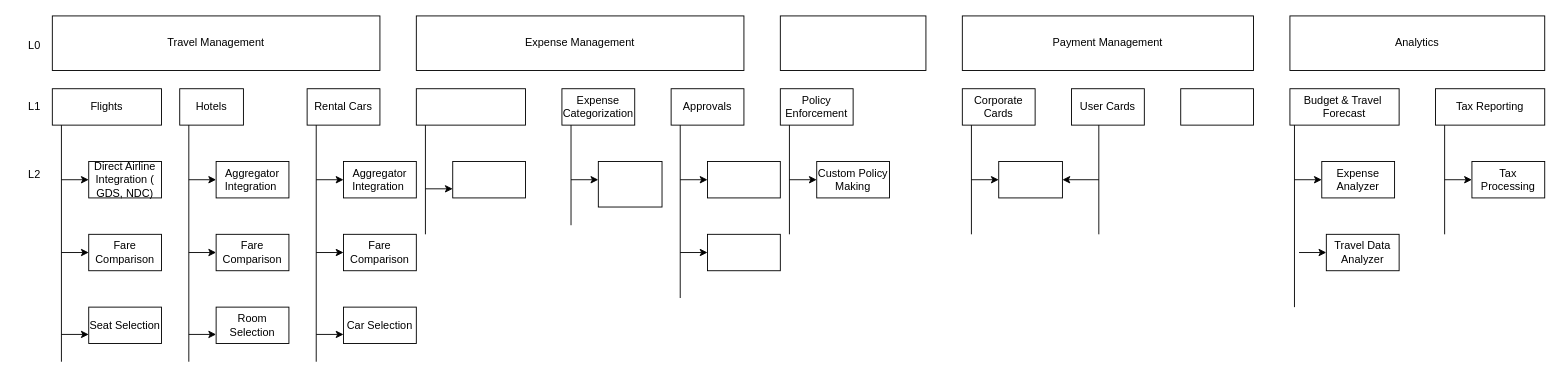
The diagram is 1561 pixels wide and 379 high, and some of its shapes have lost their labels. The box of each missing label's shape, as (x1, y1, x2, y2) in pixels:
Auto Matching Transaction: (597, 161, 662, 207)
OCR Processing: (452, 161, 526, 198)
PG Integration: (998, 161, 1062, 198)
Policy Management: (779, 15, 926, 71)
Privilege Processing: (707, 233, 780, 271)
Receipt Capture: (415, 88, 526, 125)
User Management: (707, 161, 780, 198)
Wallets: (1180, 88, 1254, 125)
